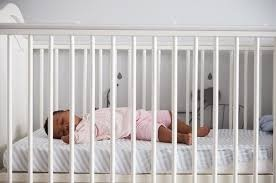baby: (95, 108, 111, 139)
crib: (0, 24, 275, 182)
